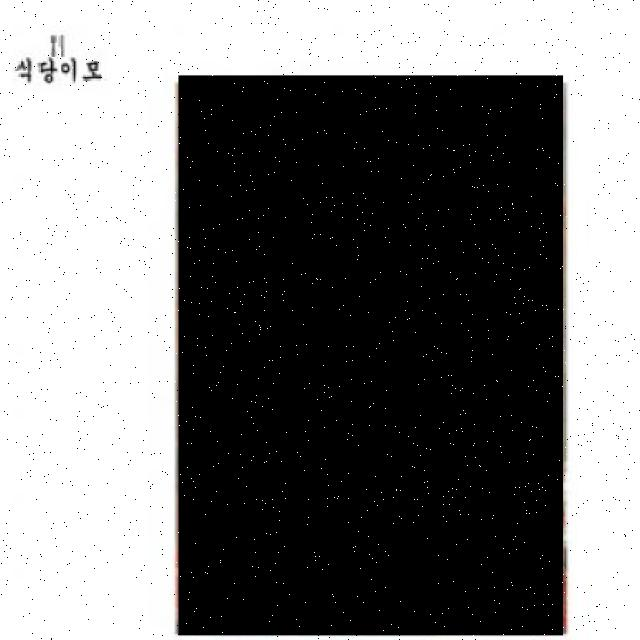Capsicum: (179, 76, 563, 636)
